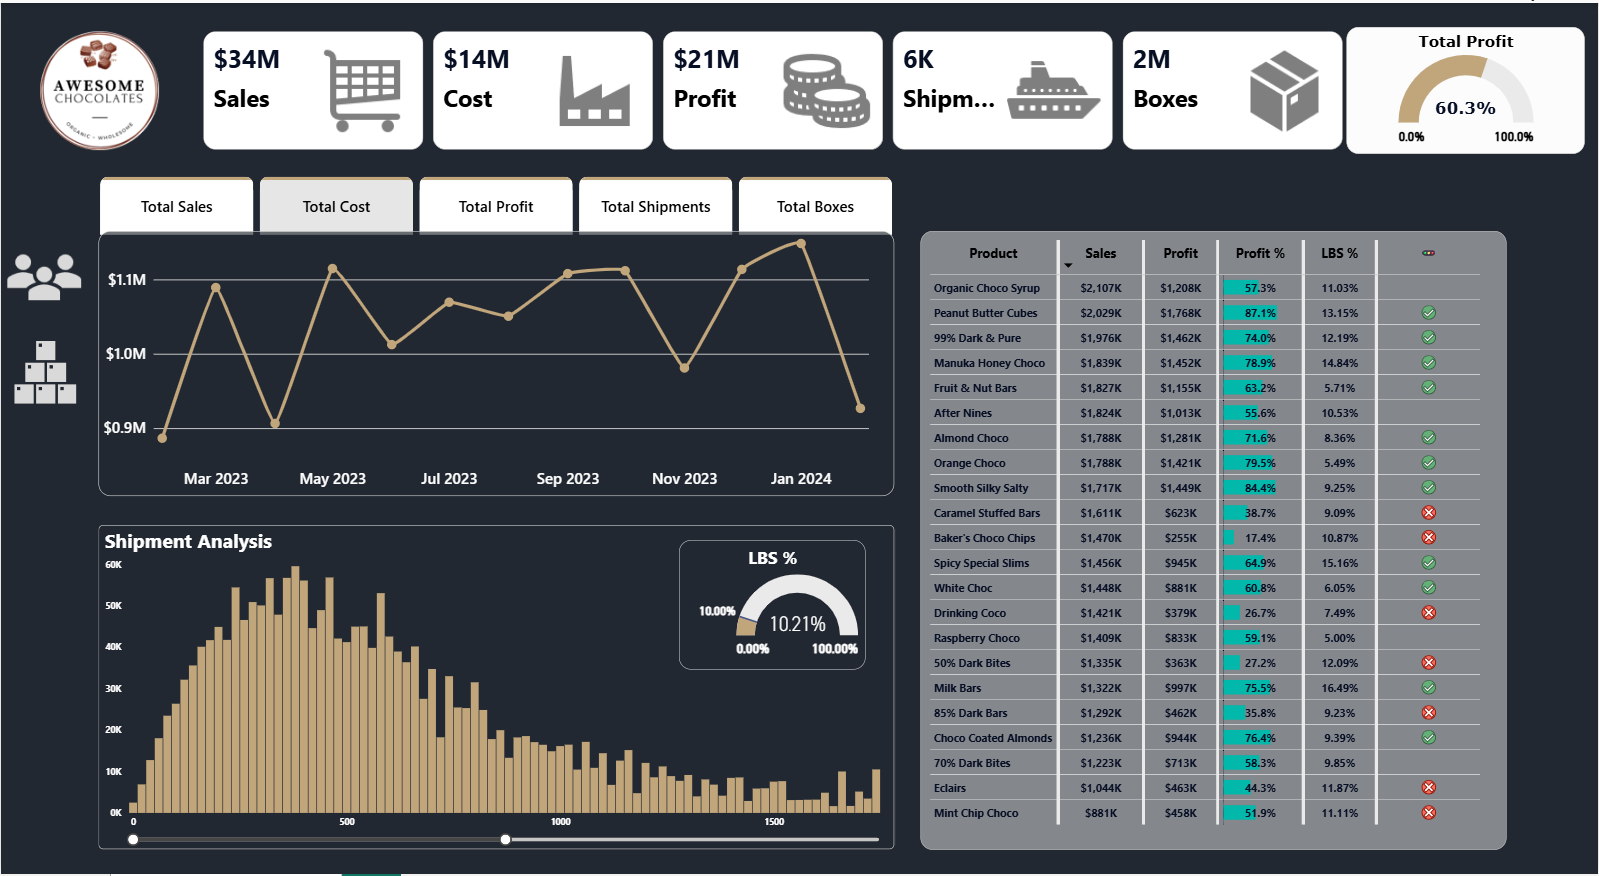

The page's visual inventory and layout, read from the dashboard file:
{"tool":"powerbi","page":{"name":"Executive Dashboard","canvas":[1980,1080],"ordinal":0},"visuals":[{"type":"advancedSlicerVisual","fields":{"Values":["line chart params.line chart params"]},"box":[121.6,209.3,986.7,77.7],"z":0,"group":"g1"},{"type":"cardVisual","fields":{"Data":["_Measures.Total Sales","_Measures.Total Cost","_Measures.Total Profit","_Measures.Total Shipments","_Measures.Total Boxes"]},"box":[245.2,29.9,1423.2,157.5],"z":0},{"type":"gauge","title":"Total Profit","fields":{"Y":["_Measures.Profit %"]},"box":[1668.4,29.9,295,157.5],"z":1000},{"type":"lineChart","fields":{"Y":["_Measures.Total Cost"],"Category":["calendar.Start of Month"]},"box":[121.9,282.5,986.8,328.9],"z":1000,"group":"g1"},{"type":"group","id":"g1","title":"Multi trend line chart","box":[121.6,209.3,988.7,402.6],"z":2000},{"type":"image","box":[0,29.9,245.2,157.5],"z":3000},{"type":"clusteredColumnChart","title":"Shipment Analysis","fields":{"Category":["shipments.Boxes (bins)"],"Y":["_Measures.Total Boxes"]},"box":[121.8,648.1,986.8,402],"z":4000},{"type":"gauge","fields":{"Y":["_Measures.LBS %"]},"box":[840.6,665.2,231.5,160.8],"z":5000},{"type":"tableEx","title":"product table","fields":{"Values":["products.Product","_Measures.Total Sales","_Measures.Total Profit","_Measures.Profit %","_Measures.LBS %","_Measures.profit target indicator"]},"box":[1140.4,282,726.8,767.6],"z":7000},{"type":"image","title":"people","box":[0,282.6,107.2,114.5],"z":8000},{"type":"image","title":"products","box":[0,411.8,109.6,92.6],"z":9000}]}

Visuals, with their boxes in screenshot pixels (x1, y1, x2, y2), scaled from the page's 1980x1080 canvas onto the 1599x876 screenshot:
advancedSlicerVisual - line chart params.line chart params: 98:170:895:233
cardVisual - _Measures.Total Sales x _Measures.Total Cost: 198:24:1347:152
"Total Profit" gauge: 1347:24:1586:152
lineChart - _Measures.Total Cost x calendar.Start of Month: 98:229:895:496
"Multi trend line chart" group: 98:170:897:496
image: 0:24:198:152
"Shipment Analysis" clusteredColumnChart: 98:526:895:852
gauge - _Measures.LBS %: 679:540:866:670
"product table" tableEx: 921:229:1508:851
"people" image: 0:229:87:322
"products" image: 0:334:89:409
